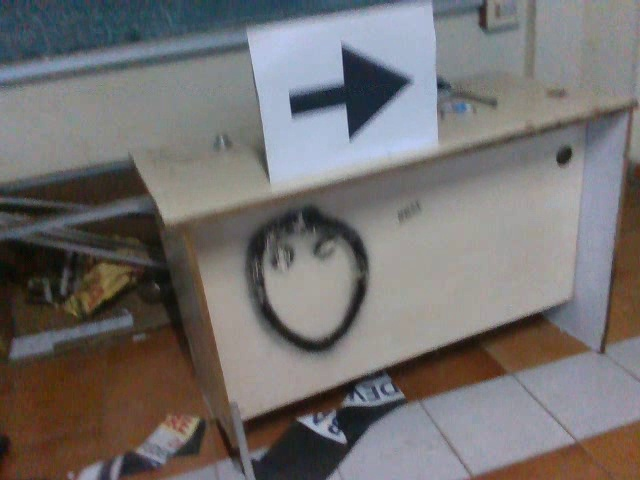Right: (279, 35, 417, 148)
